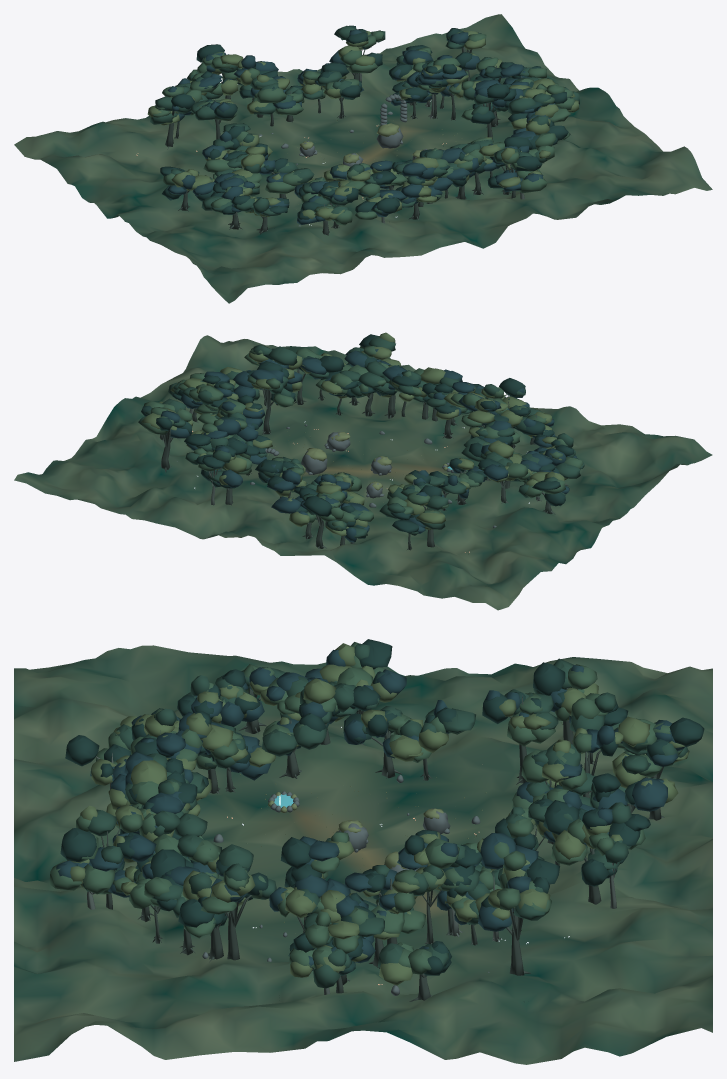
File: world.glb
3 views of the same model, one above another, from view 1: azimuth 30°, elevation 25°; view 2: azimuth 150°, elevation 25°; view 3: azimuth 270°, elevation 25° (orthographic). The views are drawn at different scales.
Size of the model in its own units: 65 by 9.7 by 50.
